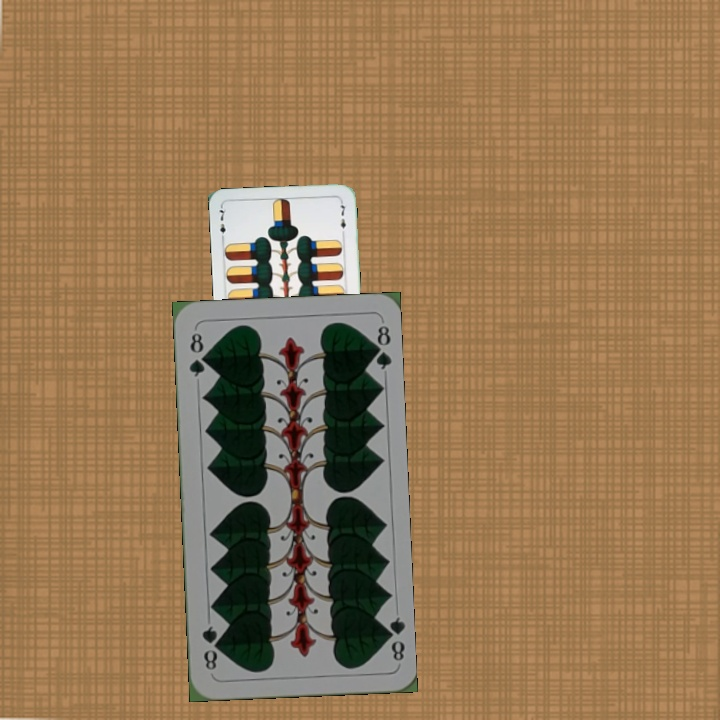E7: (216, 203, 229, 244)
G8: (379, 613, 407, 663), (185, 328, 209, 380)
